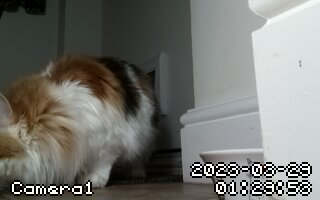clara: (2, 53, 163, 199)
